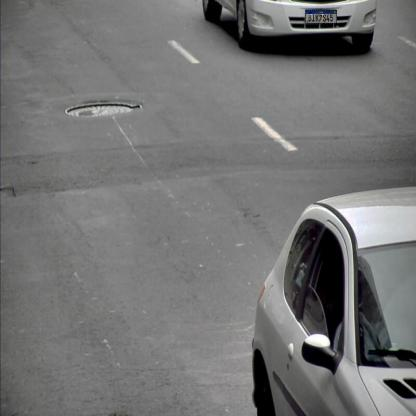PlacaM: (305, 10, 337, 23)
